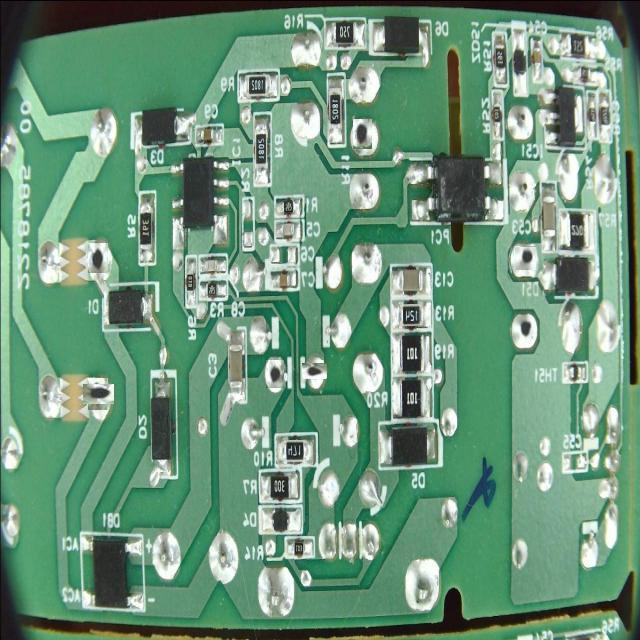damged: (515, 308, 535, 344), (85, 381, 111, 407), (354, 119, 374, 149), (88, 243, 108, 273), (514, 246, 536, 270), (266, 360, 284, 388), (304, 361, 325, 382)
